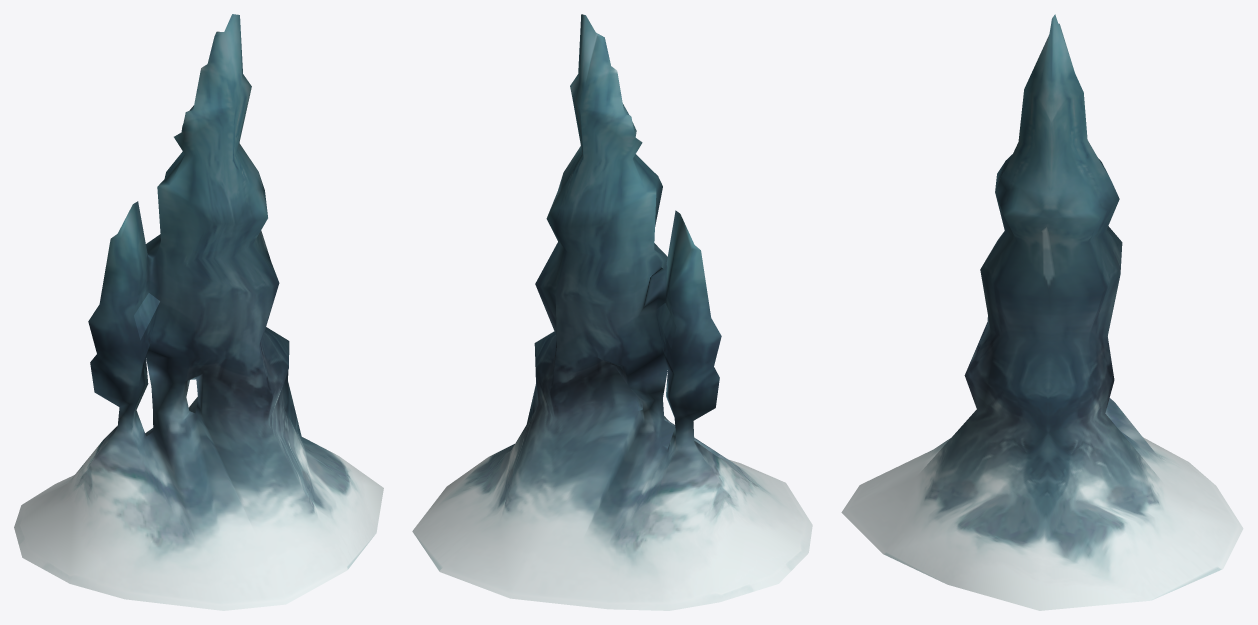
The model's file is 3-1_shizhu7.FBX.
The picture shows the model from 3 angles, left to right: view 1: azimuth 30°, elevation 25°; view 2: azimuth 150°, elevation 25°; view 3: azimuth 270°, elevation 25°; orthographic projection. The views are drawn at different scales.
Visible parts, largest first — view 1: 3-1_shizhu7; view 2: 3-1_shizhu7; view 3: 3-1_shizhu7.
Part boxes in pixels (bbox=[...]): 3-1_shizhu7: bbox=[14, 14, 383, 610]; 3-1_shizhu7: bbox=[412, 14, 812, 610]; 3-1_shizhu7: bbox=[841, 14, 1243, 610].
Size of the model in its own units: 1082 by 1513 by 1053.
